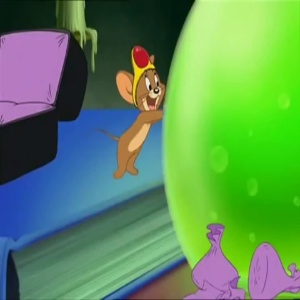Jerry: (109, 45, 166, 112)
